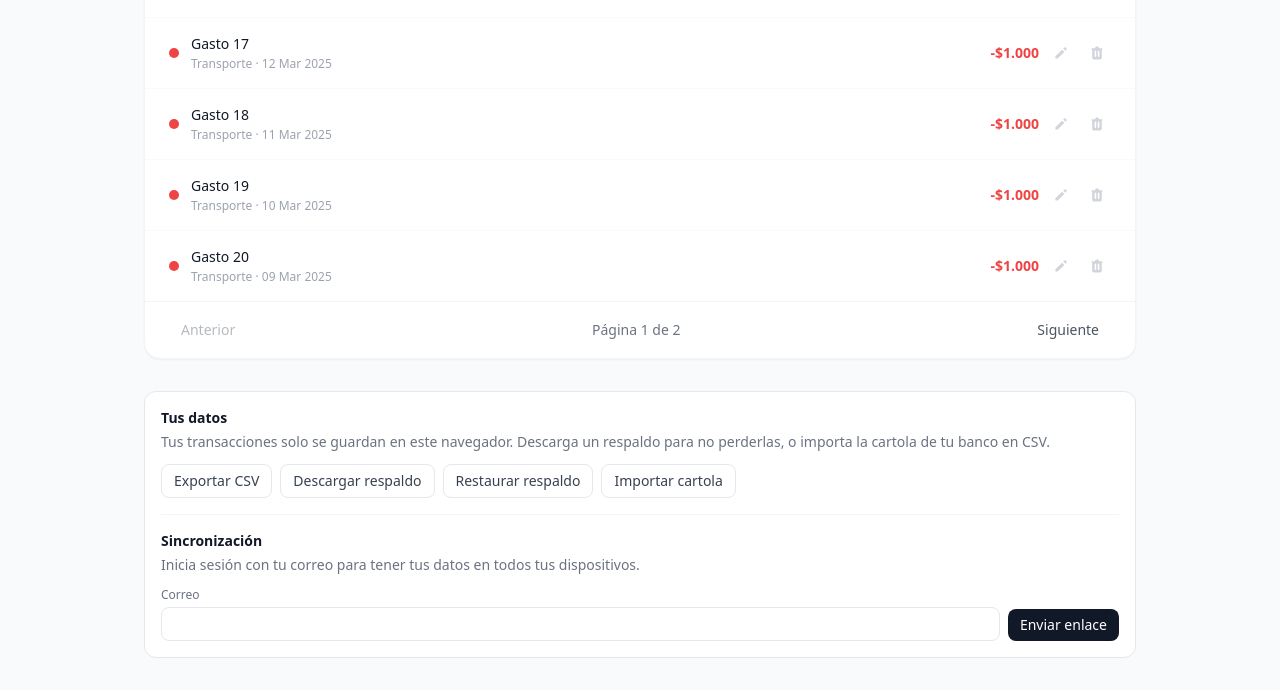
Scenario: TransactionsComponent › date range and pagination › should split long lists into pages
(page scrolled)
expect the button "Anterior" is disabled: met, box [169,314,247,346]
Click the button "Siguiente". click: (1068, 330)
box: [1025,314,1111,346]
(page scrolled)
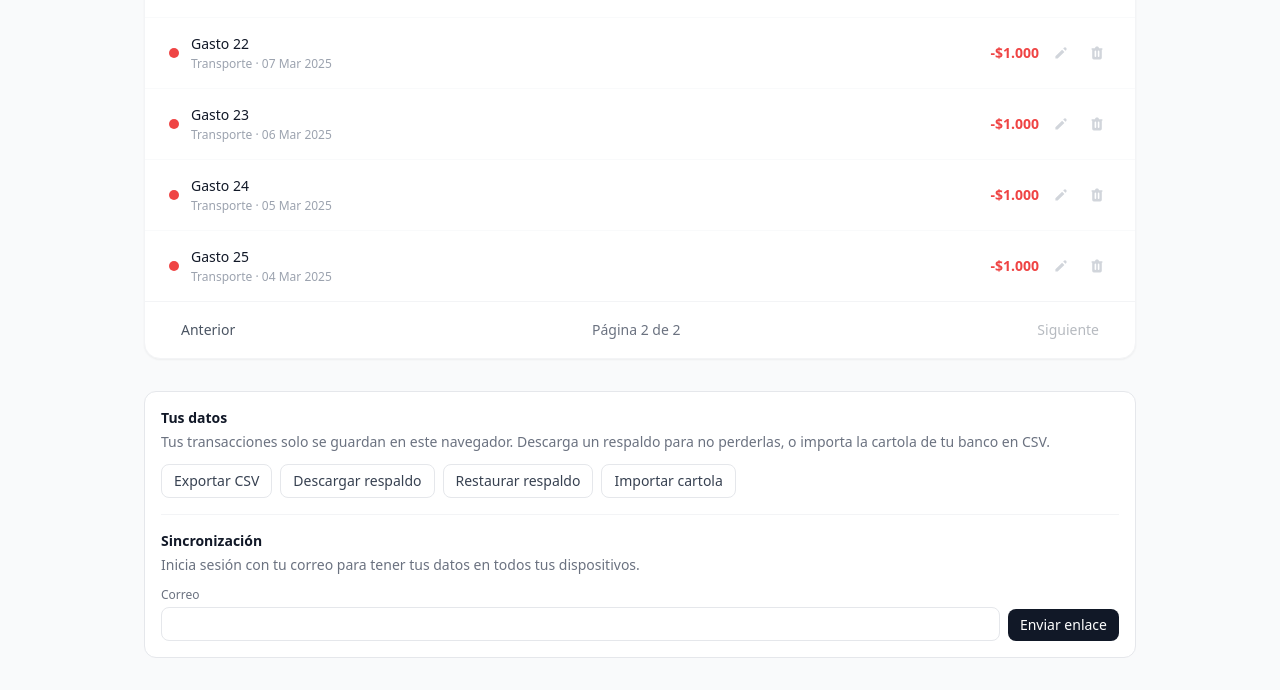
expect the text "Página 2 de 2" is shown: met, box [592,320,680,340]
expect the button "Siguiente" is disabled: met, box [1025,314,1111,346]
